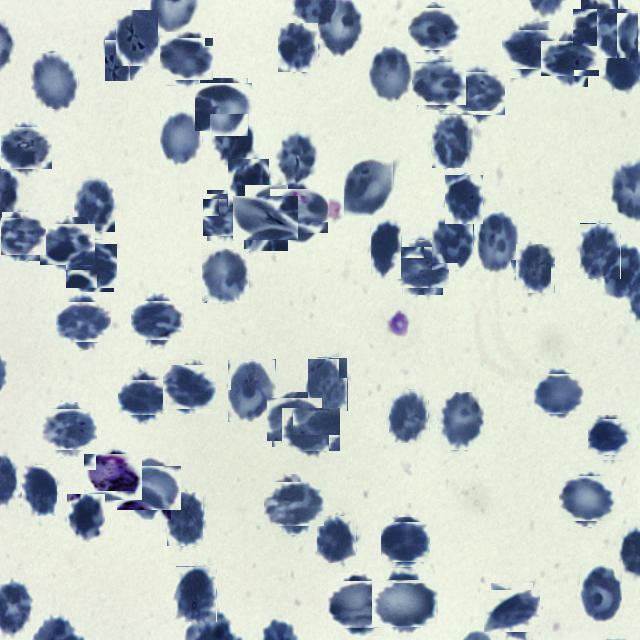difficult: (86, 451, 138, 503)
red blood cell: (376, 574, 433, 632), (238, 190, 294, 246), (332, 577, 387, 632), (228, 359, 276, 422), (121, 461, 176, 515), (344, 157, 394, 216), (476, 210, 520, 274), (198, 80, 250, 134), (31, 52, 78, 110), (562, 472, 614, 524), (268, 478, 320, 530), (274, 185, 324, 238), (202, 248, 250, 303), (439, 392, 484, 450), (369, 44, 414, 102), (286, 404, 336, 454), (487, 586, 537, 636), (414, 59, 464, 108), (0, 124, 50, 173), (269, 395, 319, 444), (166, 362, 214, 412), (580, 566, 622, 622), (116, 10, 158, 66), (160, 111, 202, 166), (68, 242, 116, 290), (398, 244, 446, 292), (506, 26, 554, 74), (163, 35, 211, 83), (60, 298, 108, 346), (546, 34, 594, 82), (45, 406, 93, 454), (454, 70, 502, 118), (411, 5, 459, 53), (43, 220, 91, 268), (176, 566, 217, 622), (580, 223, 621, 279), (432, 114, 474, 168), (432, 216, 474, 270), (74, 178, 115, 232), (210, 114, 254, 164), (104, 24, 142, 81), (389, 389, 429, 443), (308, 358, 348, 412), (537, 371, 583, 417), (134, 297, 180, 343), (205, 192, 251, 238), (597, 8, 639, 58), (576, 5, 622, 50), (278, 22, 319, 72), (226, 159, 268, 207), (516, 243, 556, 293), (445, 174, 484, 224), (167, 492, 203, 546), (384, 520, 428, 564), (317, 515, 357, 563), (277, 133, 316, 182), (0, 214, 43, 258), (20, 465, 56, 516), (371, 218, 401, 279), (122, 376, 164, 418), (67, 494, 105, 540), (590, 418, 630, 458)
